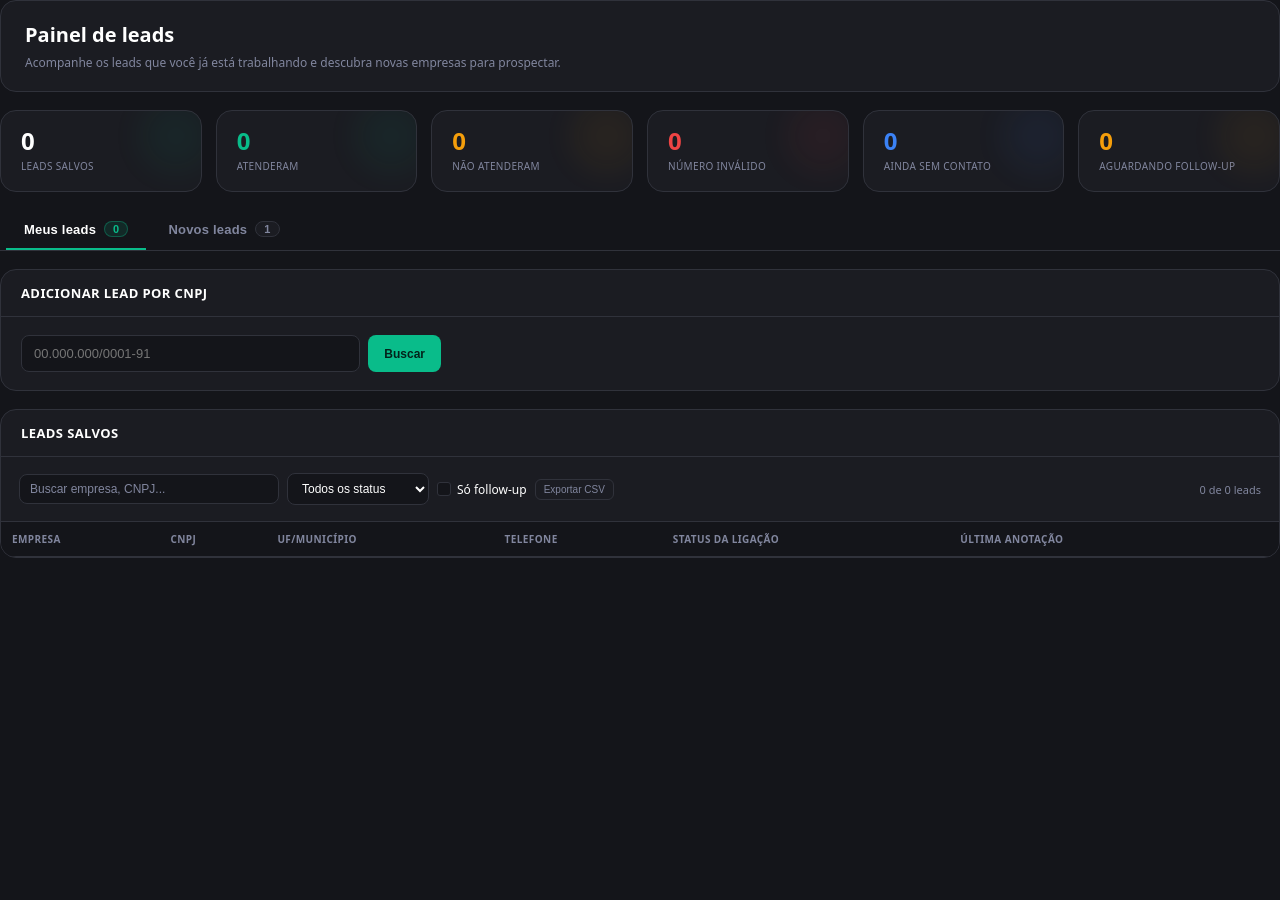
Test case: LeadsPage › erro ao adicionar lead novo aos salvos mostra toast de erro
The width and height of the screenshot is (1280, 900).
Click the button "Novos leads 1": (224, 230) [150,210,298,250]
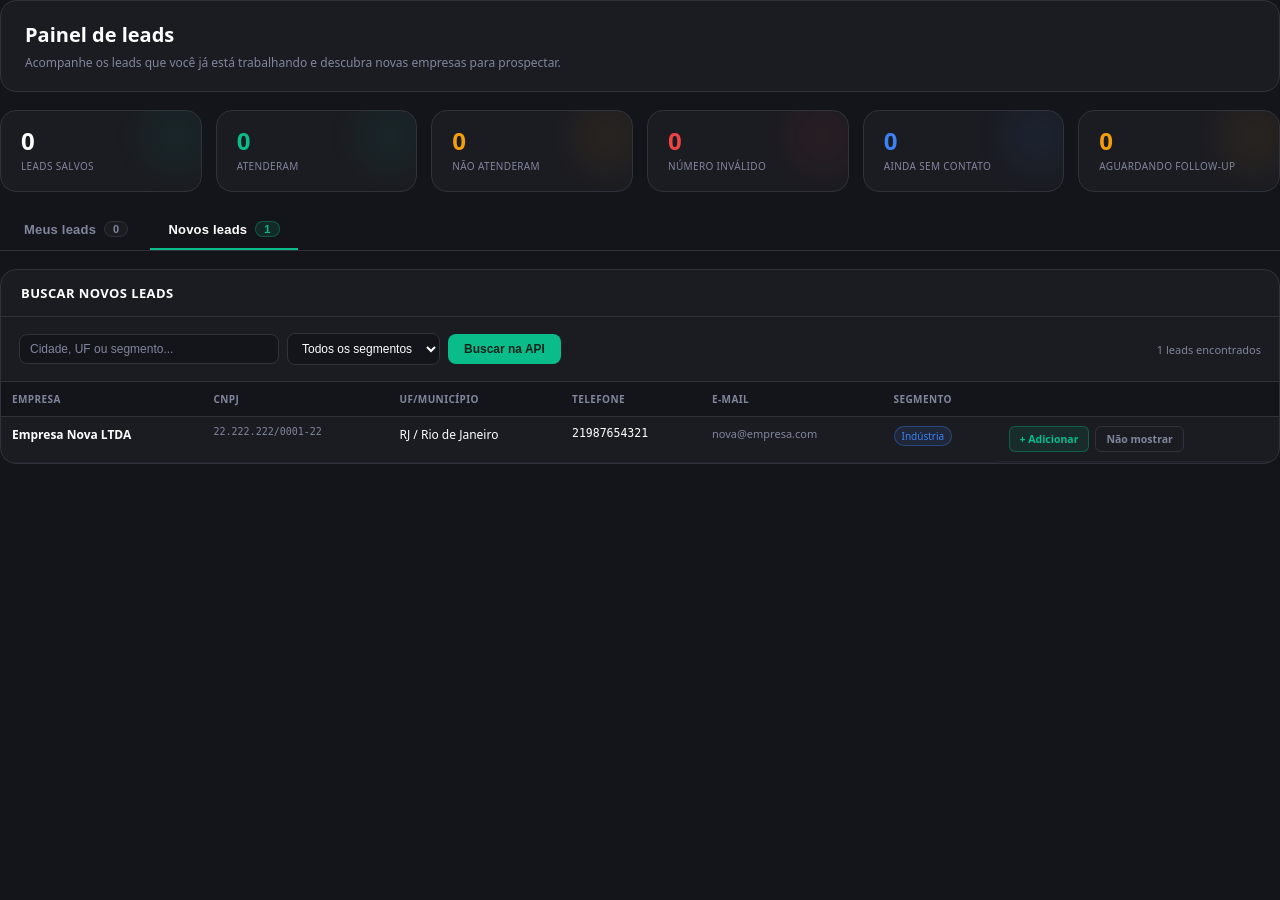
Click the text "+ Adicionar": (1049, 439) [1008,426,1089,452]
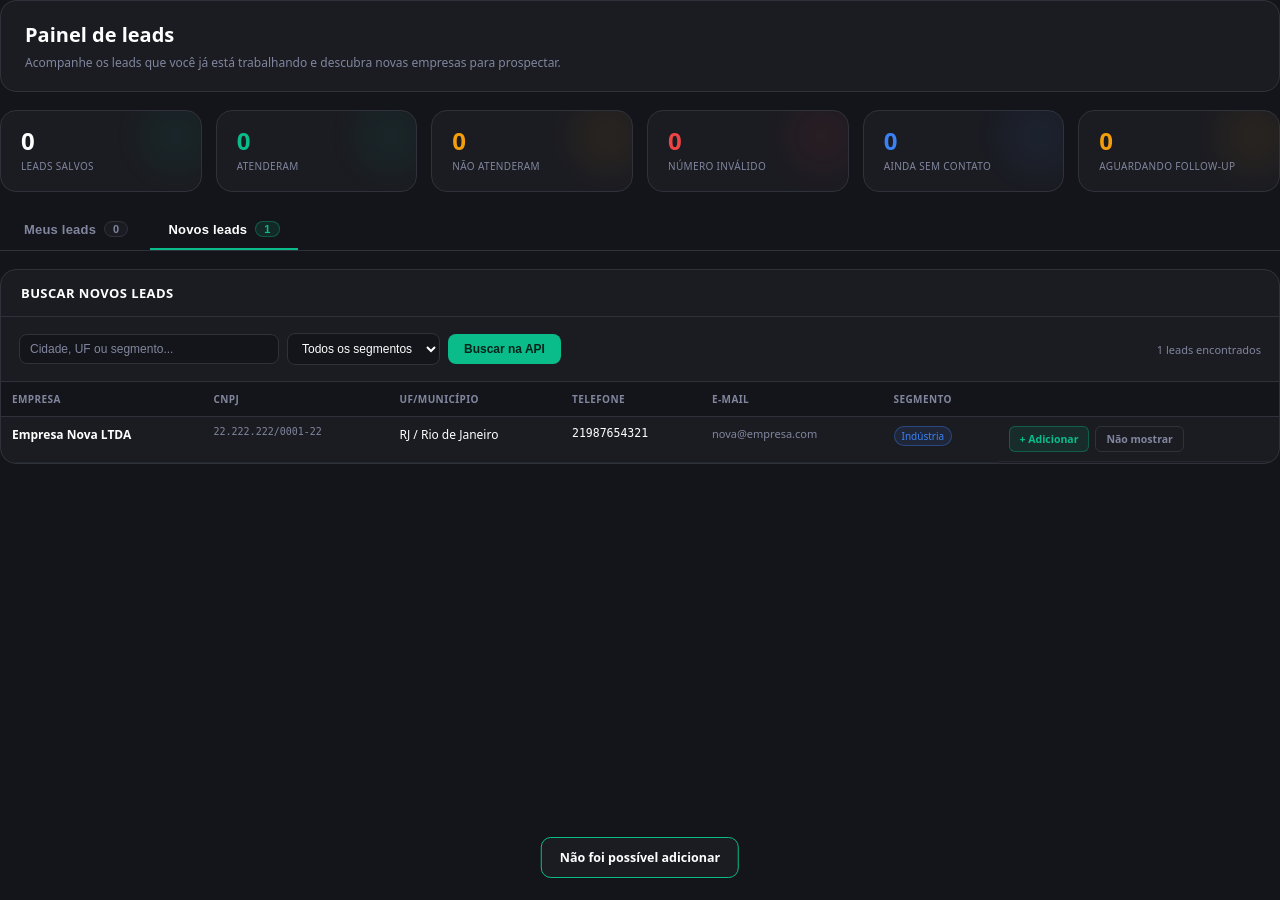
Check: the text "Não foi possível adicionar" is shown, box [541,837,739,878]
Check: the text with class "show" reads "Não foi possível adicionar", box [560,849,720,866]
